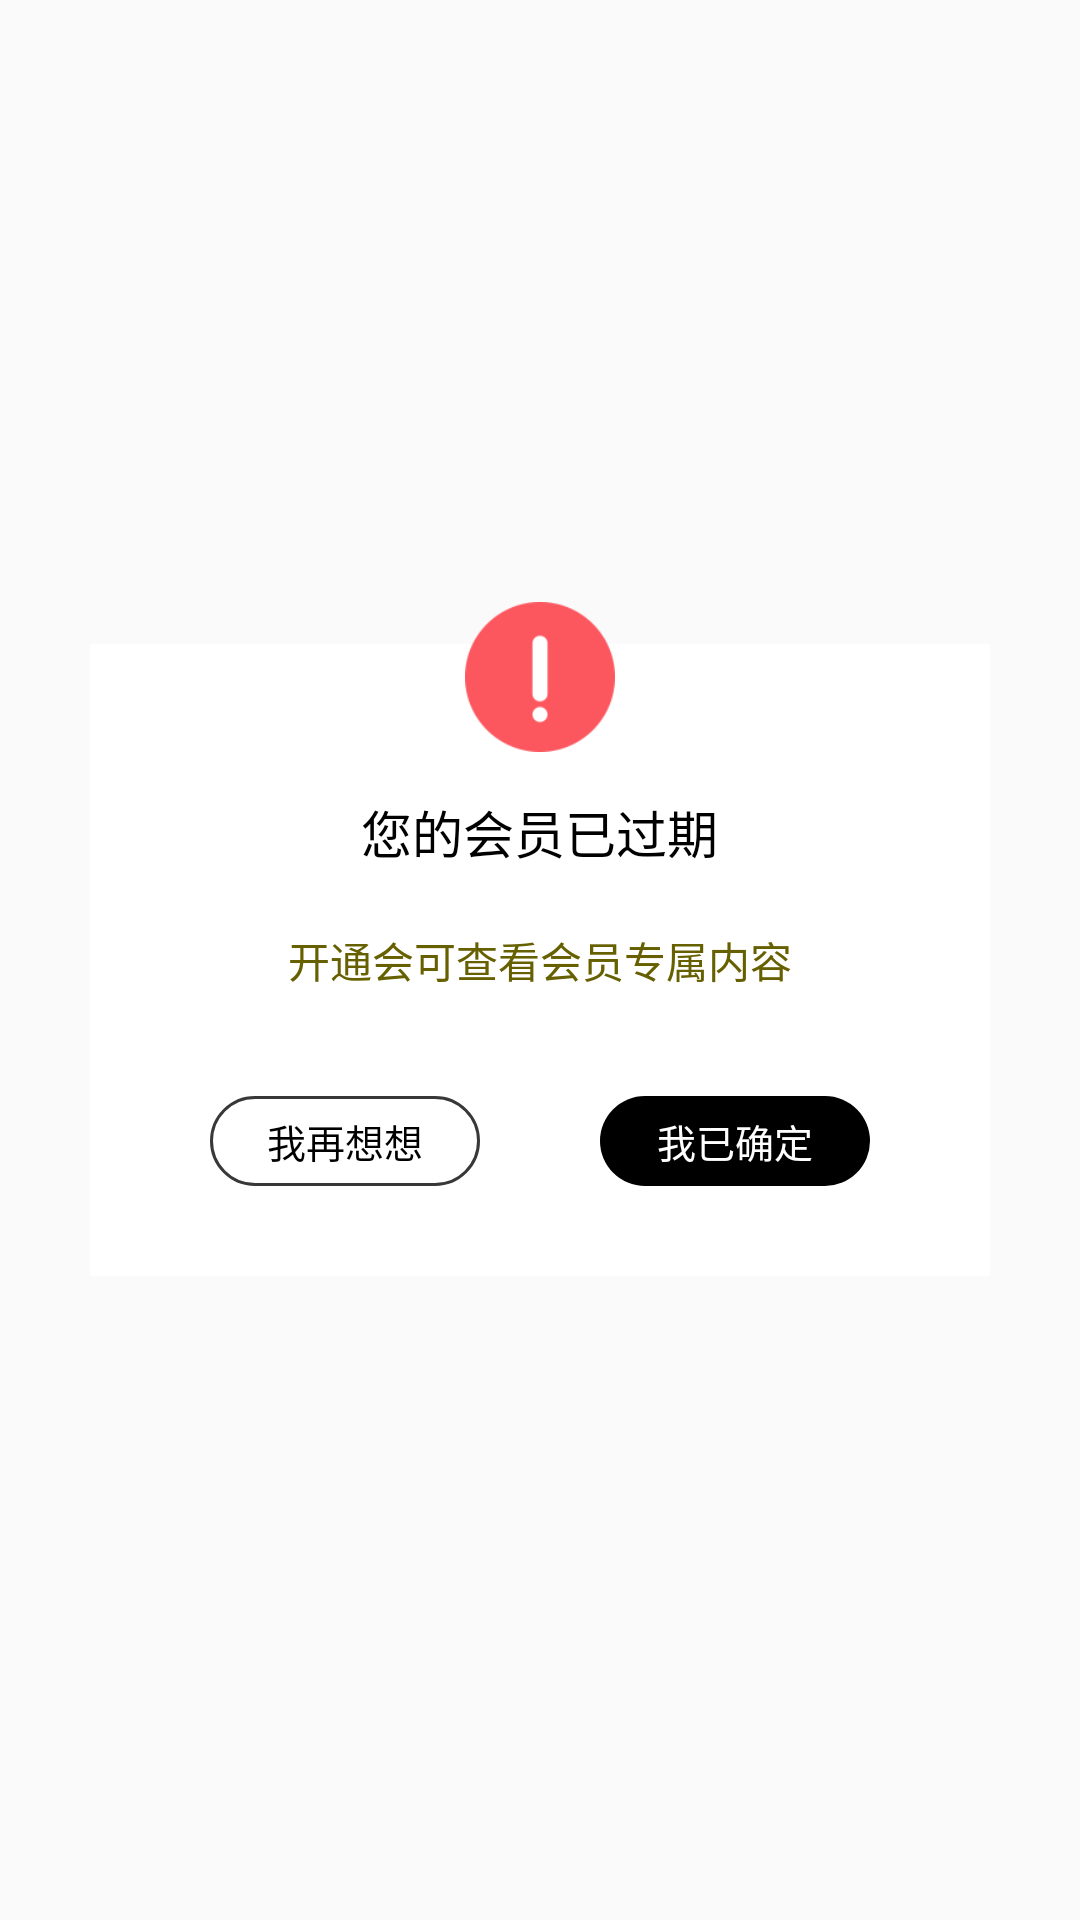

Where to tap for icons on this 1080×1920 app screen, as [x,y]:
tanchuang tanhao: [540,677]
